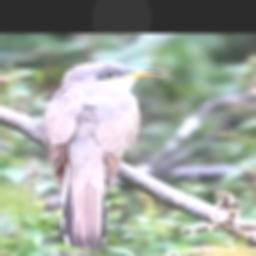Cuckoo: (42, 60, 162, 248)
